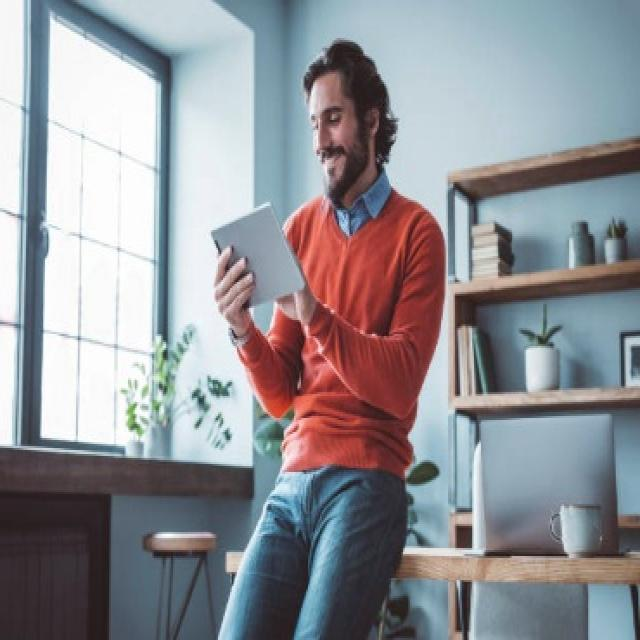adult: (197, 37, 445, 640)
